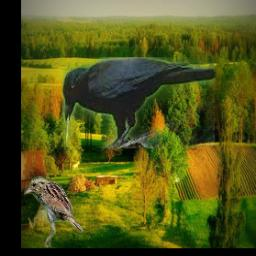Crow: (62, 57, 215, 148)
Sparrow: (25, 176, 84, 247)
